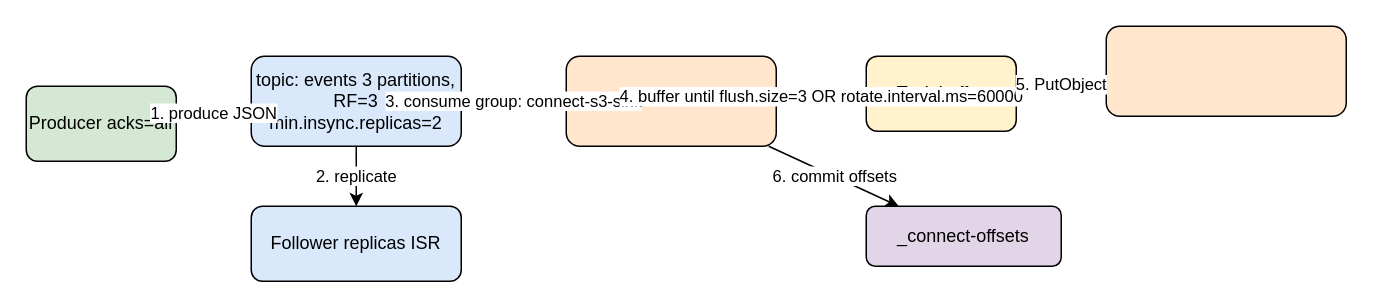
Image size: 1373x308. Some labels were removed from this diagram. Here are the shapes that lost their labels. From the top down, the centre of each, then its label:
the point at 1225,70: s3://kafka-events-bucket/ topics/events/partition=N/ events+N+offset.json
the point at 670,100: S3SinkConnector tasks.max=1..3
